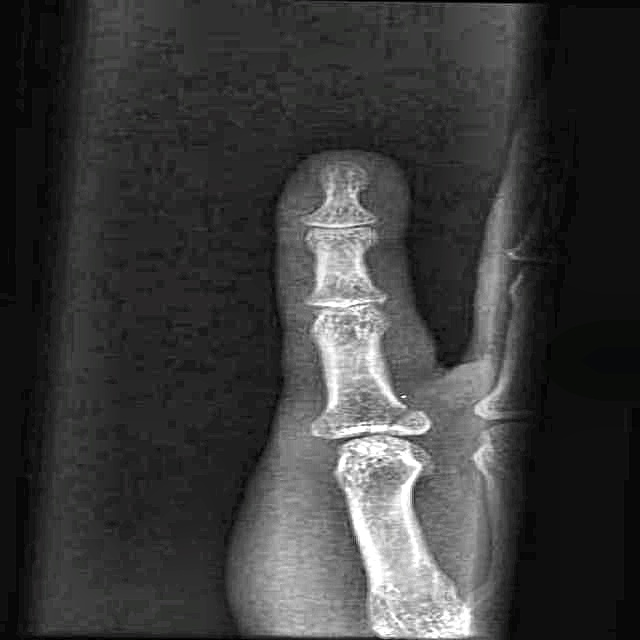Greenstick: (329, 393, 453, 450)
